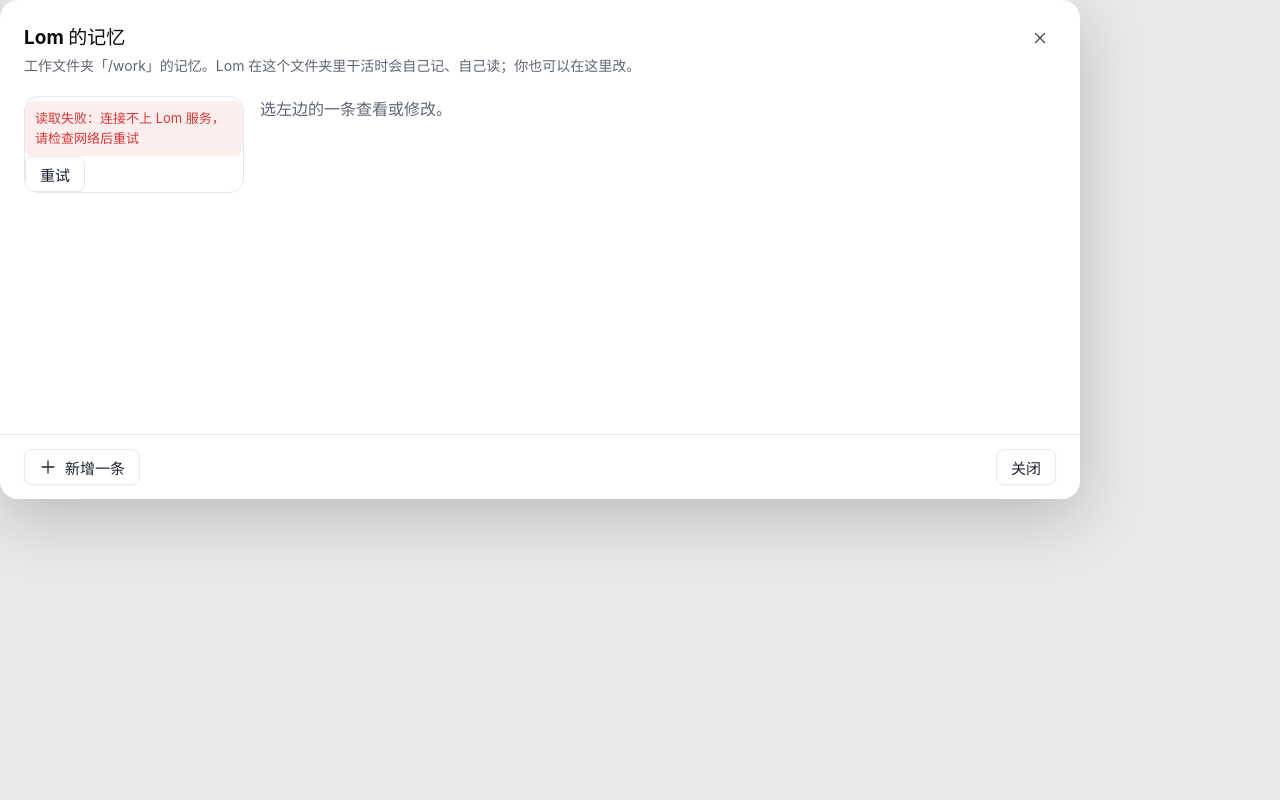
it: review: list failure ends loading and offers a working retry
Click the button "重试" at (55, 174), box [25,156,85,192]
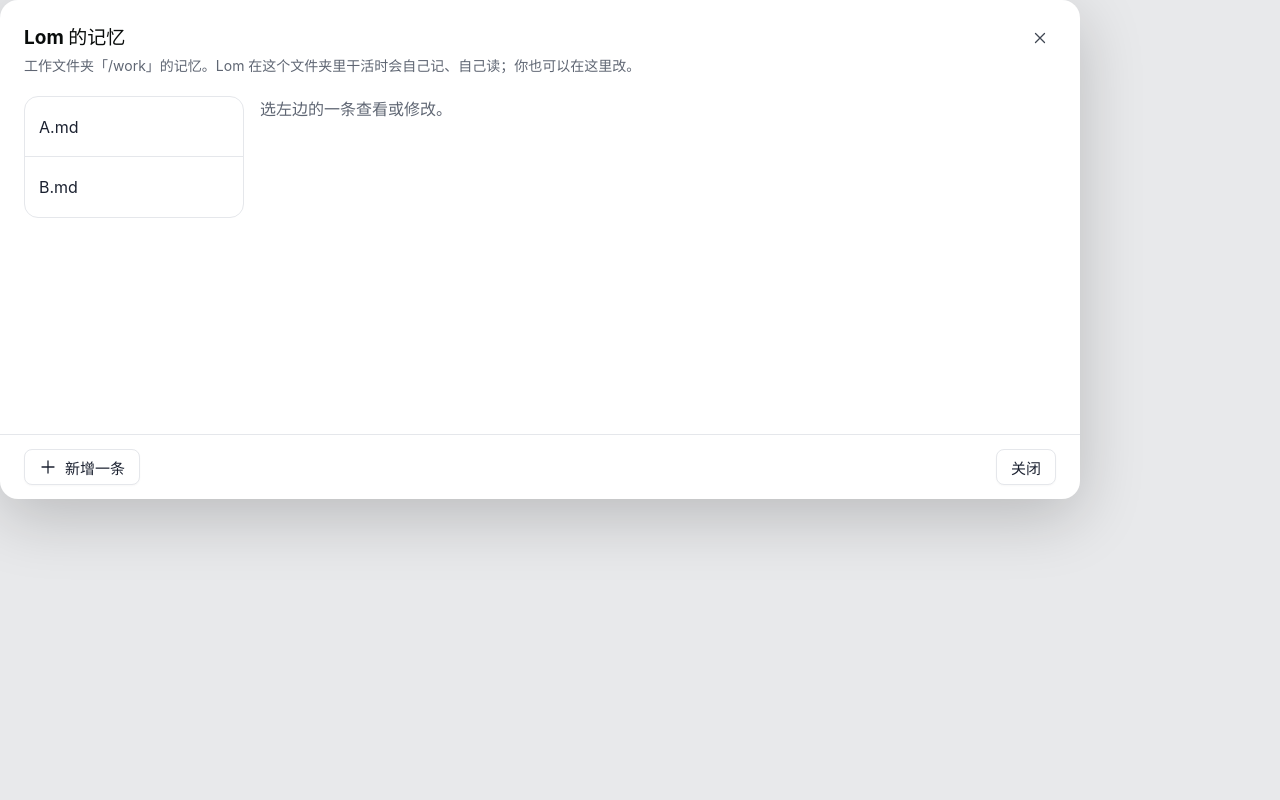
Result: the text "A.md" is shown at [25,97,243,157]
Result: the message "读取失败：连接不上 Lom 服务，请检查网络后重试 重试" is gone
